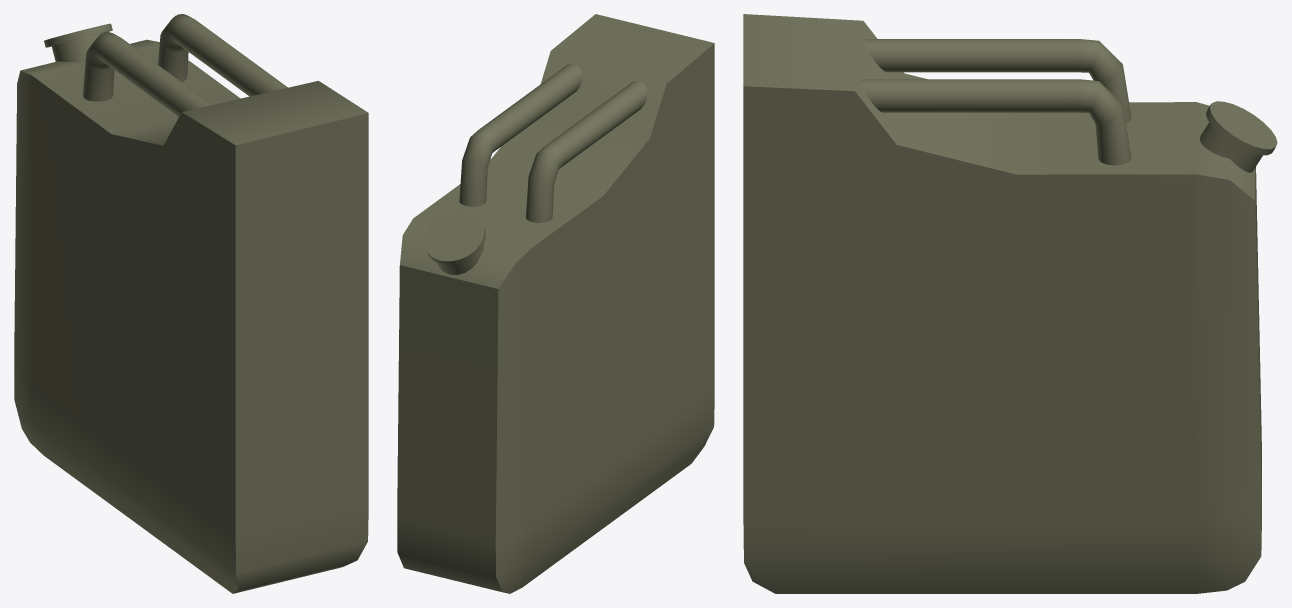
Rendered from jerry can.fbx.
3 views of the same model, side by side, from view 1: azimuth 30°, elevation 25°; view 2: azimuth 150°, elevation 25°; view 3: azimuth 270°, elevation 25° (orthographic). The views are drawn at different scales.
Parts seen in each view (by area): view 1: pCube1, pasted__pCylinder1, pasted__pCylinder2, pCylinder1, pCylinder2; view 2: pCube1, pasted__pCylinder2, pasted__pCylinder1, pCylinder2, pCylinder1; view 3: pCube1, pasted__pCylinder2, pasted__pCylinder1, pCylinder2, pCylinder1.
Part boxes in pixels (<box>): pCube1: <box>14,39,368,593</box>; pasted__pCylinder1: <box>83,32,212,116</box>; pasted__pCylinder2: <box>158,14,287,96</box>; pCylinder1: <box>51,32,104,62</box>; pCylinder2: <box>44,23,112,47</box>; pCube1: <box>397,14,714,593</box>; pasted__pCylinder2: <box>459,63,582,206</box>; pasted__pCylinder1: <box>525,81,647,222</box>; pCylinder2: <box>423,211,485,265</box>; pCylinder1: <box>437,244,484,274</box>; pCube1: <box>743,14,1261,593</box>; pasted__pCylinder2: <box>861,79,1131,165</box>; pasted__pCylinder1: <box>865,39,1131,123</box>; pCylinder2: <box>1206,101,1277,155</box>; pCylinder1: <box>1199,122,1262,172</box>.
Bounding box in the file's own units: 3.91 × 12.98 × 12.22.
